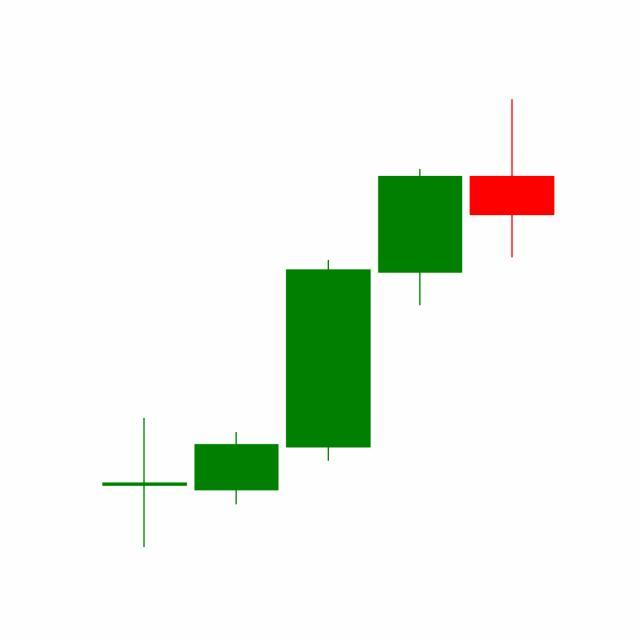Advance Block: (190, 165, 467, 508)
